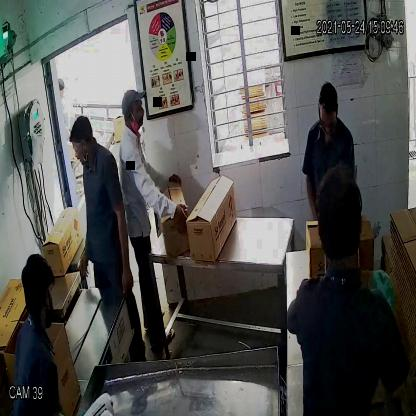no_goggles: (120, 97, 145, 116)
